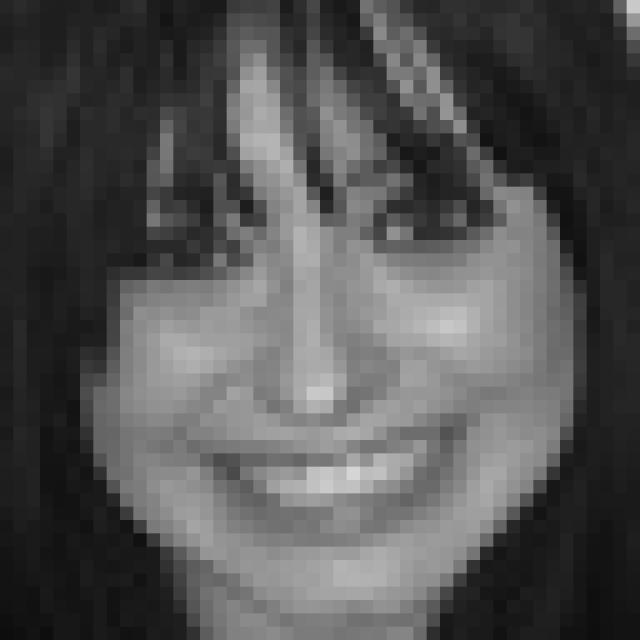happy: (119, 125, 532, 557)
